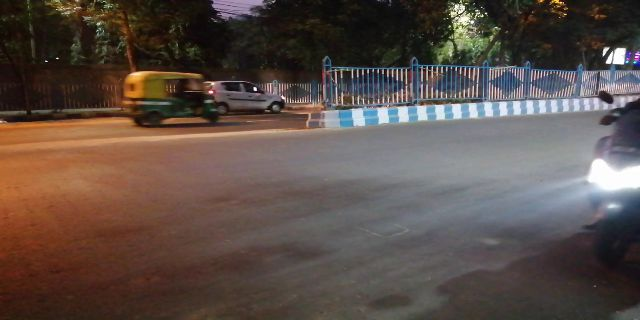Autorickshaw: (121, 70, 222, 128)
Car: (222, 76, 286, 116)
Motorbike: (578, 73, 640, 265)
